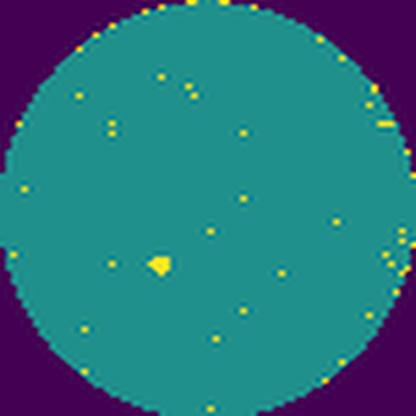Loc: (145, 254, 170, 279)
